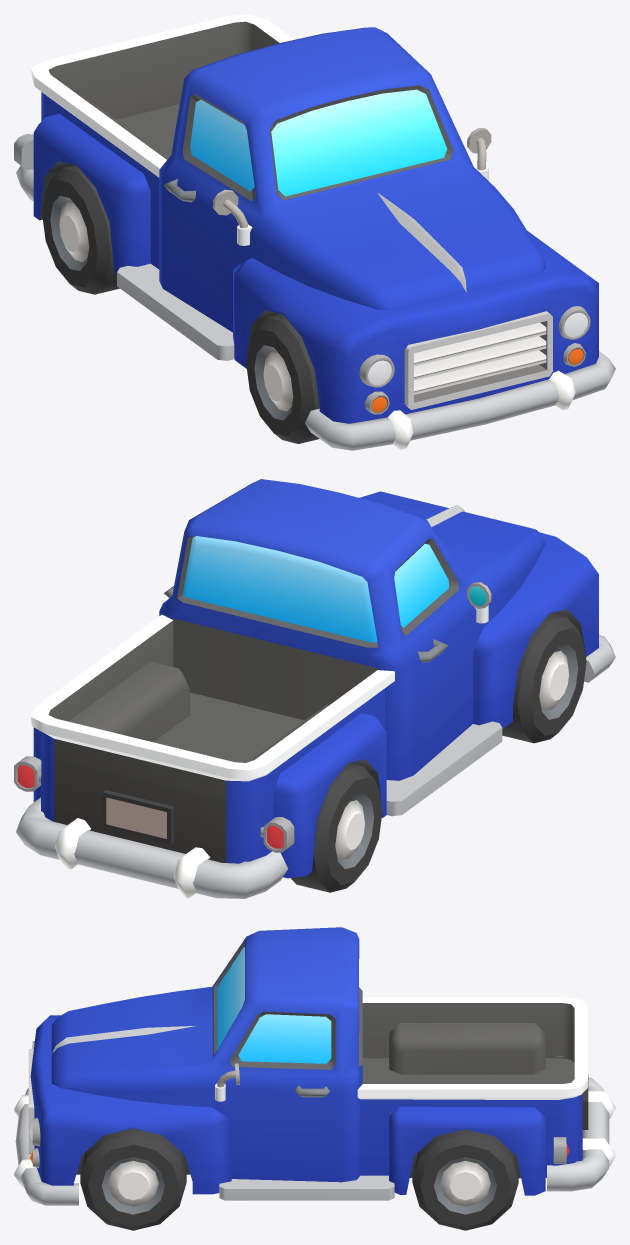
Rendered from city2-car-16.glb.
3 views of the same model, one above another, from view 1: azimuth 30°, elevation 25°; view 2: azimuth 150°, elevation 25°; view 3: azimuth 270°, elevation 25° (orthographic). The views are drawn at different scales.
Visible parts, largest first — view 1: Plane.121, Wheel_162, Wheel_161; view 2: Plane.121, Wheel_161, Wheel_162; view 3: Plane.121, Wheel_163, Wheel_164.
Boxes of the visible parts, x1,y1,x2,y2 form: Plane.121: (14, 14, 615, 450); Wheel_162: (42, 165, 119, 294); Wheel_161: (246, 314, 319, 443); Plane.121: (14, 479, 615, 898); Wheel_161: (502, 613, 586, 743); Wheel_162: (291, 763, 382, 892); Plane.121: (14, 927, 615, 1205); Wheel_163: (80, 1128, 186, 1230); Wheel_164: (412, 1129, 518, 1230).
Bounding box in the file's own units: 2.17 × 1.93 × 4.79.
Materials: 2 (2 with a texture image).
